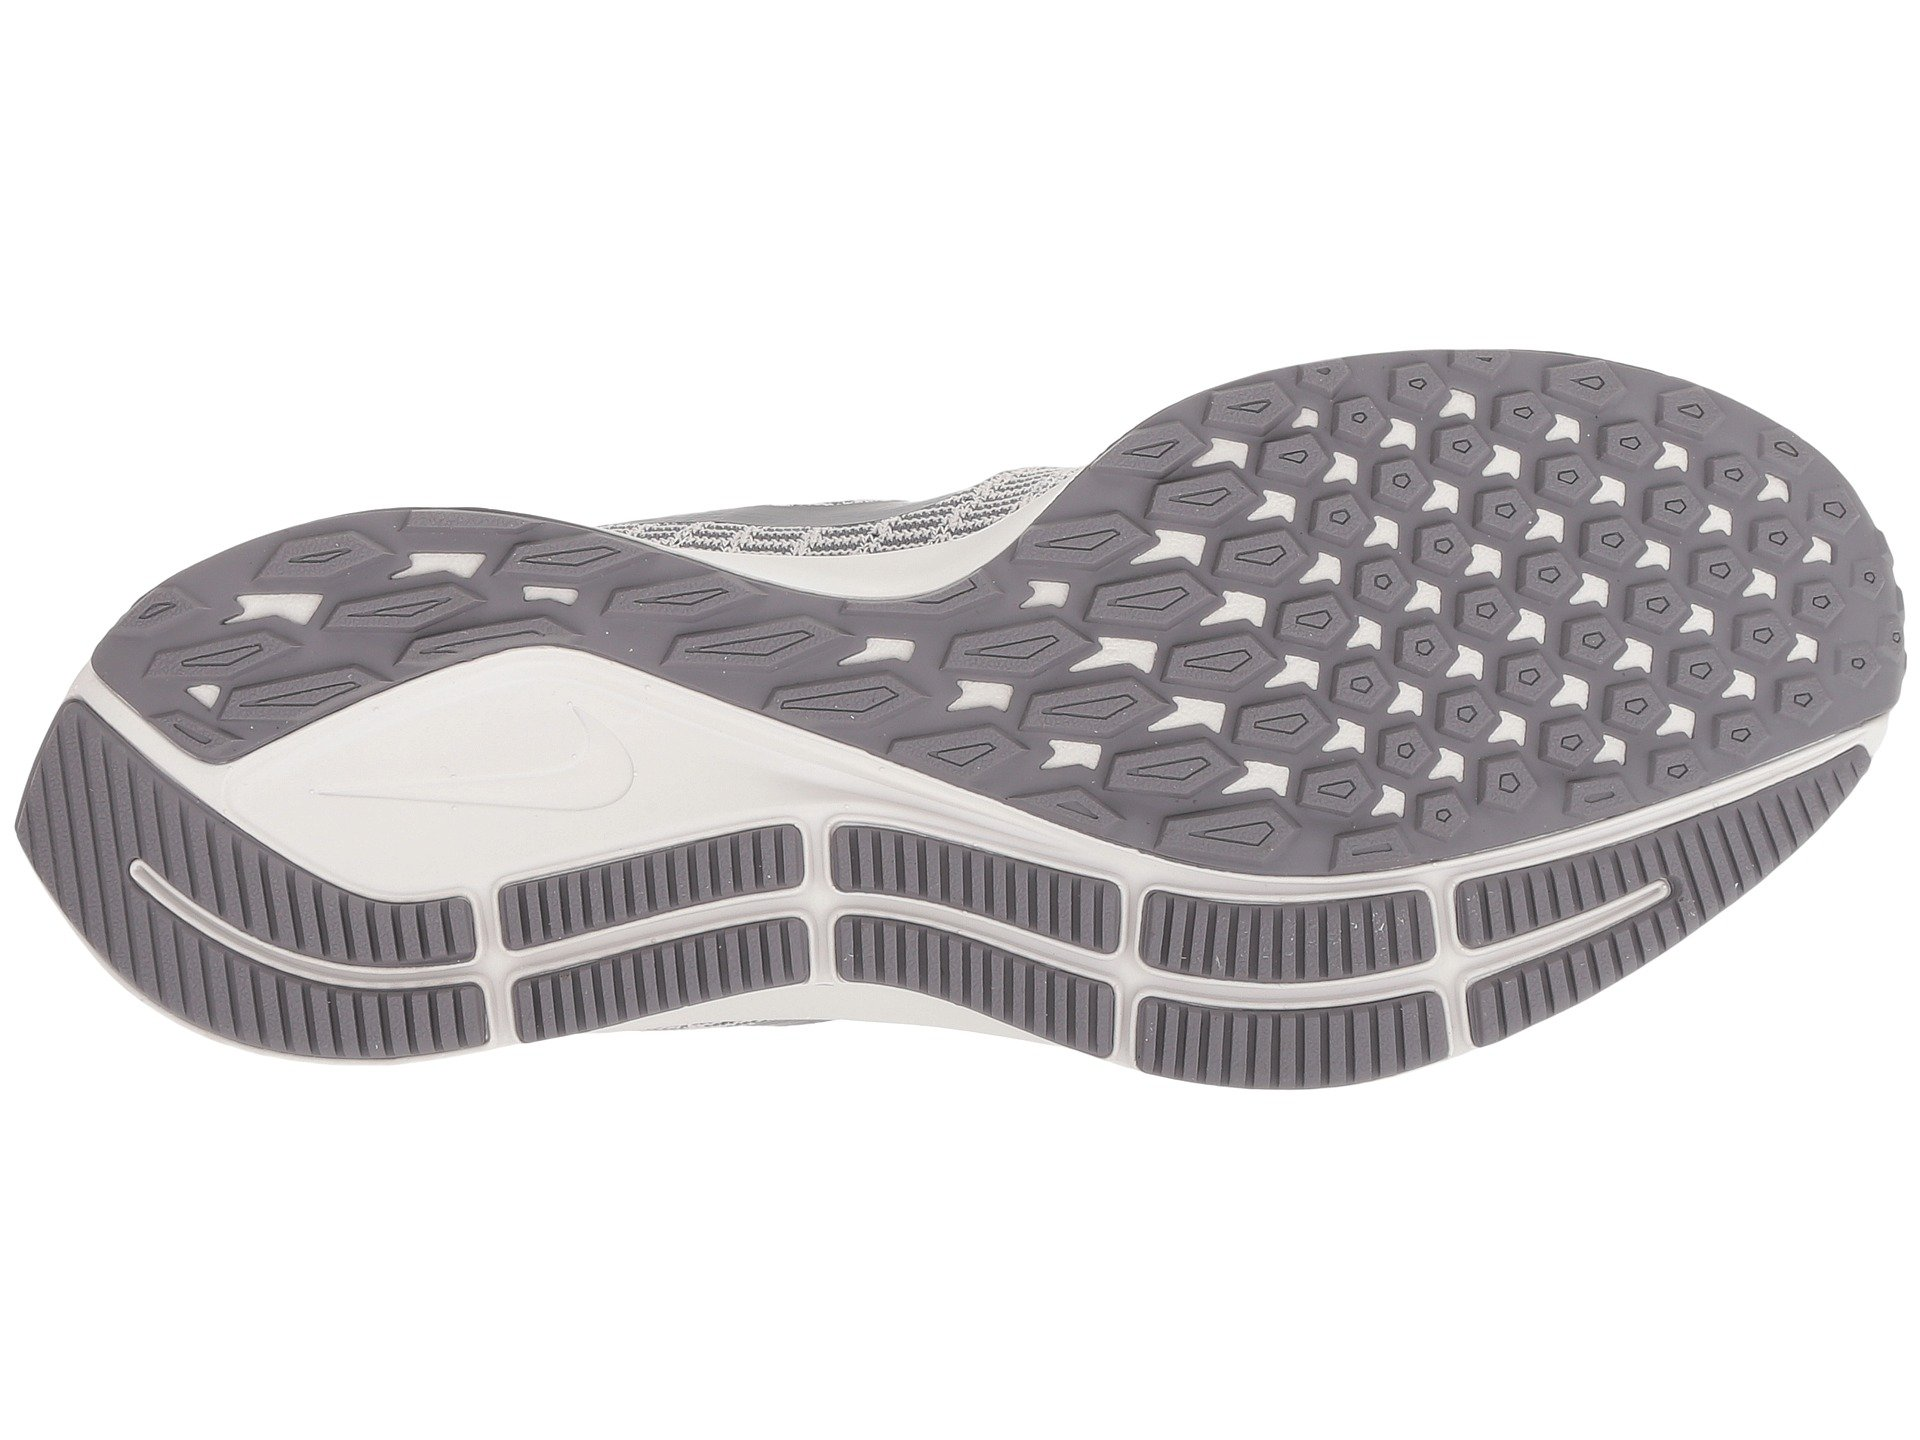line: (472, 479, 819, 718), (928, 271, 1185, 507), (206, 529, 431, 737), (1346, 343, 1539, 525)
polygon: (1206, 57, 1504, 337), (1516, 86, 1773, 387), (239, 154, 523, 411), (928, 271, 1185, 507), (1346, 343, 1539, 525), (1785, 113, 1906, 315)
quad: (472, 479, 819, 718), (206, 529, 431, 737), (1191, 543, 1395, 734), (38, 410, 144, 534), (866, 504, 936, 566)
triangle: (239, 154, 523, 411), (928, 271, 1185, 507)
